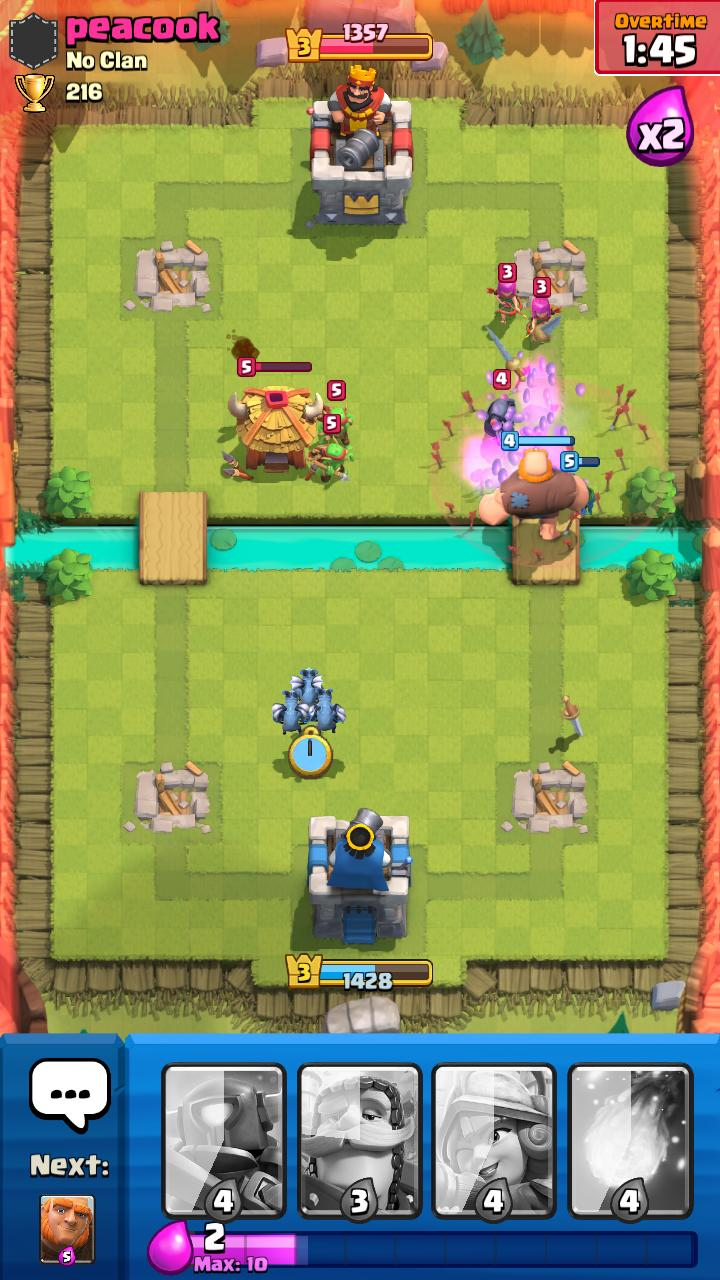ally: (478, 431, 589, 540), (560, 451, 600, 515), (309, 688, 347, 733), (272, 690, 309, 735), (289, 667, 326, 707)
enemy: (222, 357, 324, 480), (305, 414, 354, 484), (317, 380, 354, 451), (486, 263, 527, 324), (525, 277, 562, 344), (484, 369, 516, 446)
